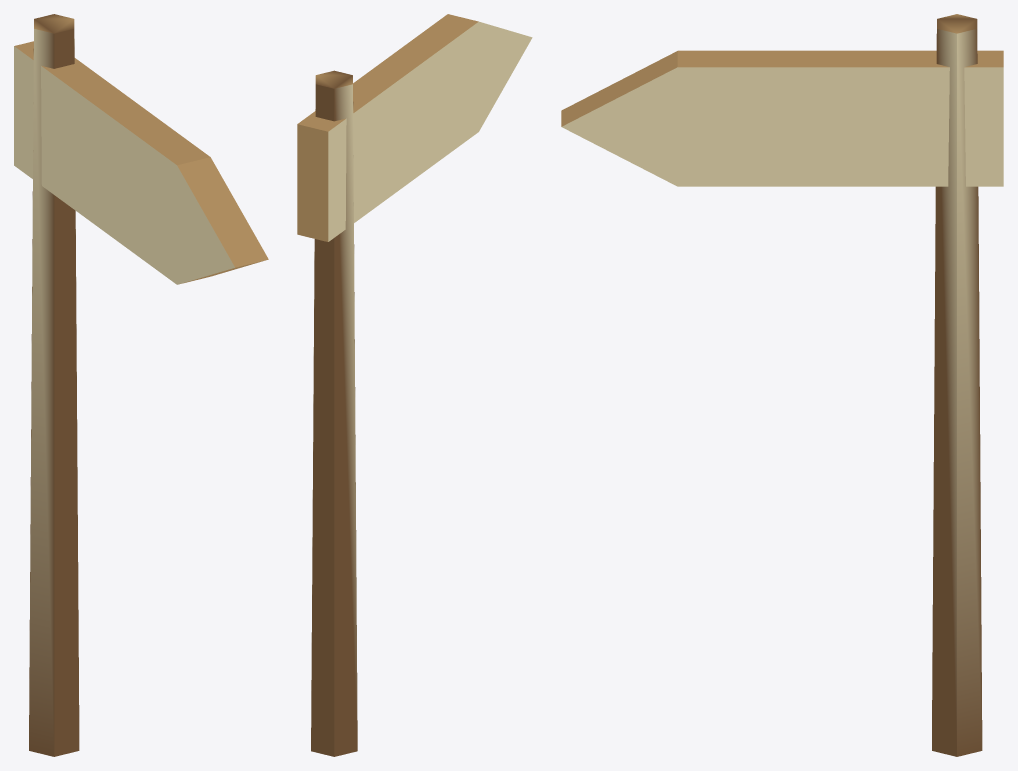
Rendered from docksign_0.glb.
3 renders of one model, left to right at view 1: azimuth 30°, elevation 25°; view 2: azimuth 150°, elevation 25°; view 3: azimuth 270°, elevation 25°, orthographic. The views are drawn at different scales.
Parts seen in each view (by area): view 1: docksign_0; view 2: docksign_0; view 3: docksign_0.
Part boxes in pixels (x1=…): docksign_0: x1=14, y1=14, x2=268, y2=756; docksign_0: x1=297, y1=14, x2=532, y2=756; docksign_0: x1=561, y1=14, x2=1003, y2=756.
Bounding box in the file's own units: 0.15 × 2.05 × 1.14.
